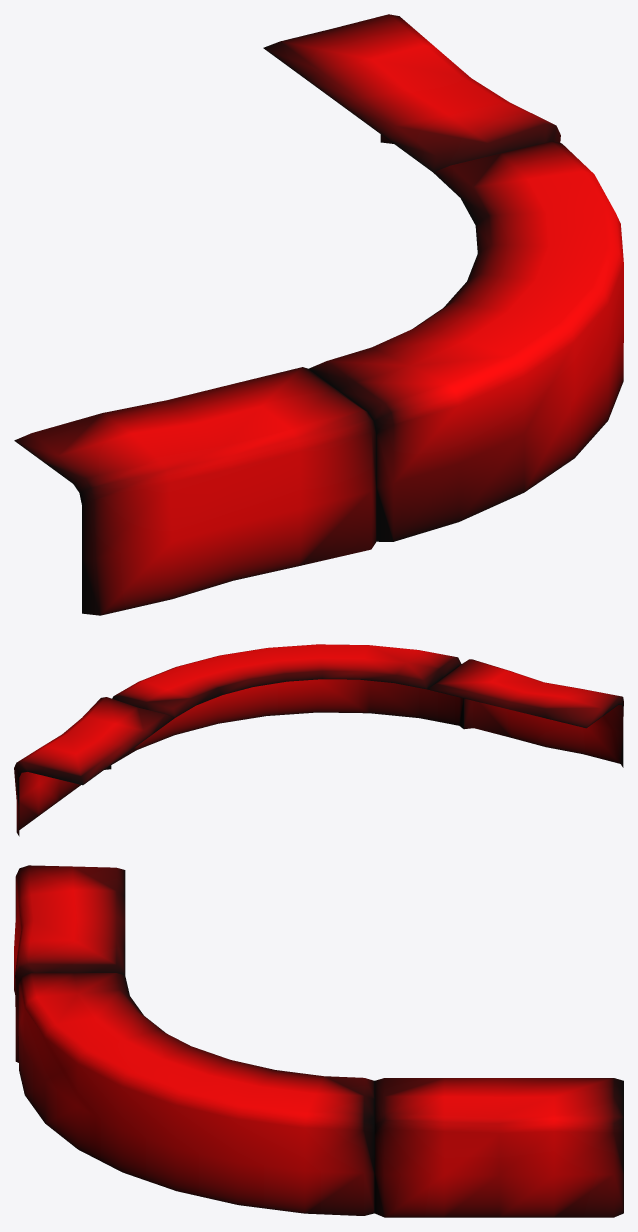
Rendered from curb_outer_corner_0.5_b.fbx.
3 views of the same model, one above another, from view 1: azimuth 30°, elevation 25°; view 2: azimuth 150°, elevation 25°; view 3: azimuth 270°, elevation 25° (orthographic). The views are drawn at different scales.
Parts seen in each view (by area): view 1: curb_outer_corner_0.5_b; view 2: curb_outer_corner_0.5_b; view 3: curb_outer_corner_0.5_b.
Boxes of the visible parts, <box> form: curb_outer_corner_0.5_b: <box>14,14,623,615</box>; curb_outer_corner_0.5_b: <box>14,644,623,836</box>; curb_outer_corner_0.5_b: <box>14,865,623,1217</box>.
Bounding box in the file's own units: 1.23 × 0.2238 × 1.22.
